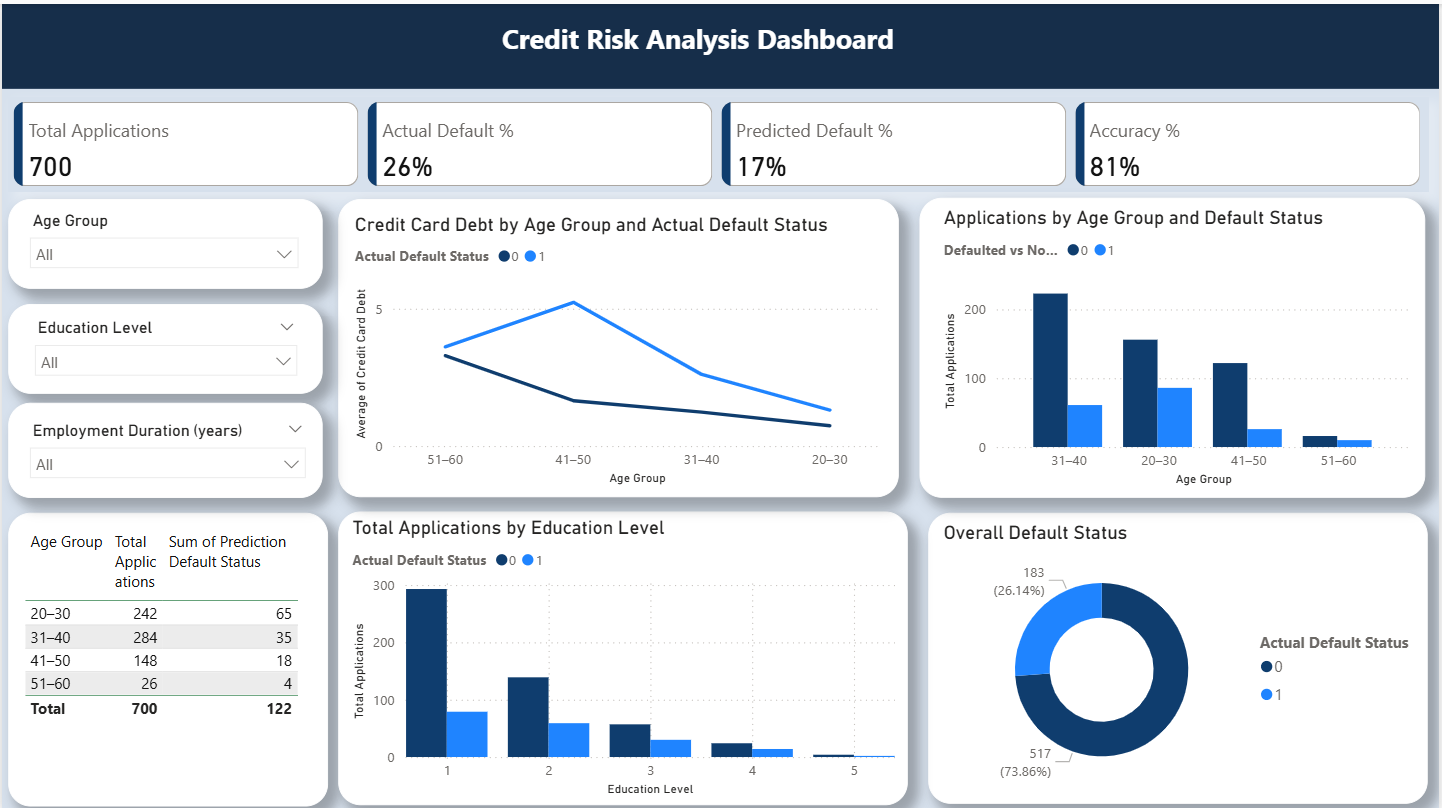

The page's visual inventory and layout, read from the dashboard file:
{"tool":"powerbi","page":{"name":"Page 1","canvas":[1280,720],"ordinal":0},"visuals":[{"type":"shape","box":[824.5,452.9,445.2,259.4],"z":0},{"type":"shape","box":[5.2,452.9,285.2,261.9],"z":1000},{"type":"donutChart","title":"Overall Default Status","fields":{"Y":["DataCredit_predict.Total Applications"],"Category":["DataCredit_predict.Actual Default Status"]},"box":[833.5,460.6,428.4,245.2],"z":2000},{"type":"tableEx","fields":{"Values":["DataCredit_predict.Age Group","DataCredit_predict.Total Applications","Sum(DataCredit_predict.Prediction Default Status)"]},"box":[14.2,463.2,264.5,245.2],"z":3000},{"type":"shape","box":[299.4,451.6,507.1,261.9],"z":4000},{"type":"shape","box":[299.4,174.2,499.4,265.8],"z":5000},{"type":"lineChart","title":"Credit Card Debt by Age Group and Actual Default Status","fields":{"Category":["DataCredit_predict.Age Group"],"Y":["Avg(DataCredit_predict.Credit Card Debt)"],"Series":["DataCredit_predict.Actual Default Status"]},"box":[309.7,185.8,478.7,247.7],"z":6000},{"type":"clusteredColumnChart","title":"Total Applications by Education Level ","fields":{"Y":["DataCredit_predict.Total Applications"],"Series":["DataCredit_predict.Actual Default Status"],"Category":["DataCredit_predict.Education Level"]},"box":[307.1,456.8,492.9,254.2],"z":7000},{"type":"shape","box":[5.2,174.2,280,80],"z":8000},{"type":"slicer","fields":{"Values":["DataCredit_predict.Age Group"]},"box":[14.2,179.4,259.4,68.4],"z":9000},{"type":"shape","box":[5.2,267.1,280,80],"z":10000},{"type":"slicer","fields":{"Values":["DataCredit_predict.Education Level"]},"box":[19.4,274.8,254.2,68.4],"z":11000},{"type":"shape","box":[816.8,172.9,450.3,267.1],"z":12000},{"type":"shape","box":[5.2,354.8,280,85.2],"z":13000},{"type":"slicer","fields":{"Values":["DataCredit_predict.Employment Duration (years)"]},"box":[14.2,366.5,265.8,68.4],"z":14000},{"type":"clusteredColumnChart","title":" Applications by Age Group and Default Status","fields":{"Category":["DataCredit_predict.Age Group"],"Series":["DataCredit_predict.Actual Default Status"],"Y":["DataCredit_predict.Total Applications"]},"box":[833.5,180.6,425.8,254.2],"z":15000},{"type":"textbox","box":[264.5,10.3,709.7,59.4],"z":16000},{"type":"cardVisual","fields":{"Data":["DataCredit_predict.Total Applications","DataCredit_predict.Actual Default %","DataCredit_predict.Predicted Default %","DataCredit_predict.Accuracy %"]},"box":[5.2,82.6,1264.5,85.2],"z":17000}]}

Visuals, with their boxes in screenshot pixels (x1, y1, x2, y2), scaled from the page's 1280x720 canvas onto the 1442x808 screenshot:
shape: left=929, top=508, right=1430, bottom=799
shape: left=6, top=508, right=327, bottom=802
"Overall Default Status" donutChart: left=939, top=517, right=1422, bottom=792
tableEx - DataCredit_predict.Age Group x DataCredit_predict.Total Applications: left=16, top=520, right=314, bottom=795
shape: left=337, top=507, right=909, bottom=801
shape: left=337, top=195, right=900, bottom=494
"Credit Card Debt by Age Group and Actual Default Status" lineChart: left=349, top=209, right=888, bottom=486
"Total Applications by Education Level " clusteredColumnChart: left=346, top=513, right=901, bottom=798
shape: left=6, top=195, right=321, bottom=285
slicer - DataCredit_predict.Age Group: left=16, top=201, right=308, bottom=278
shape: left=6, top=300, right=321, bottom=390
slicer - DataCredit_predict.Education Level: left=22, top=308, right=308, bottom=385
shape: left=920, top=194, right=1427, bottom=494
shape: left=6, top=398, right=321, bottom=494
slicer - DataCredit_predict.Employment Duration (years): left=16, top=411, right=315, bottom=488
" Applications by Age Group and Default Status" clusteredColumnChart: left=939, top=203, right=1419, bottom=488
textbox: left=298, top=12, right=1097, bottom=78
cardVisual - DataCredit_predict.Total Applications x DataCredit_predict.Actual Default %: left=6, top=93, right=1430, bottom=188
